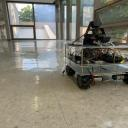cart: (64, 44, 128, 89)
